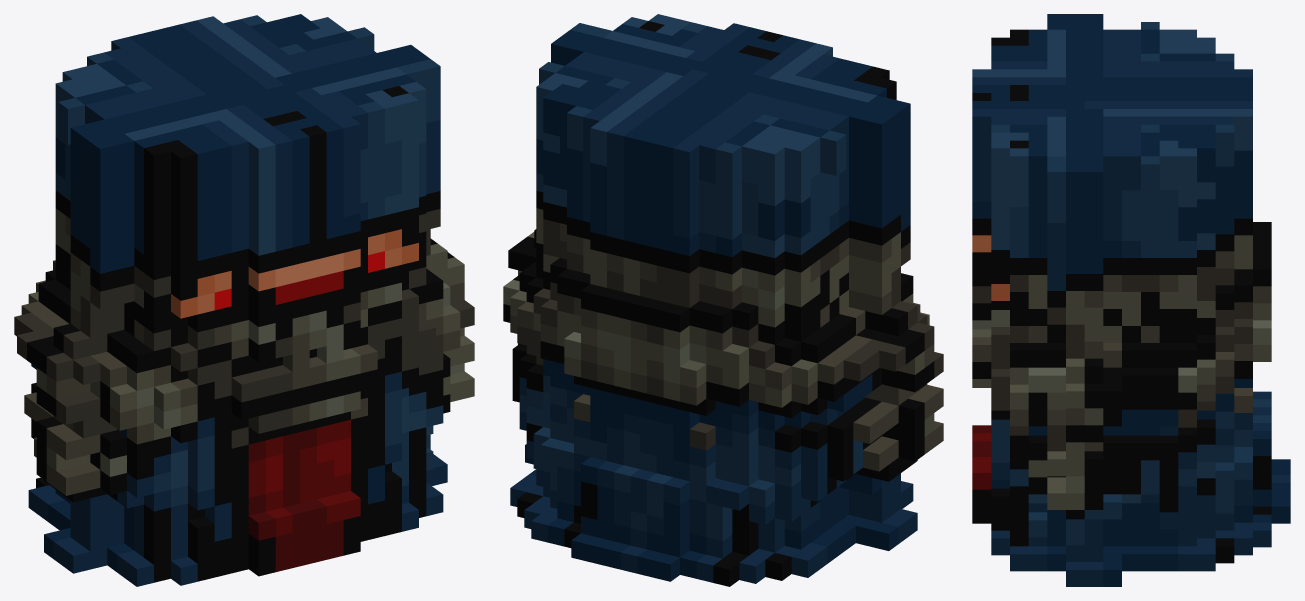
The model's file is Icon_715_01.obj.
3 views of the same model, side by side, from view 1: azimuth 30°, elevation 25°; view 2: azimuth 150°, elevation 25°; view 3: azimuth 270°, elevation 25° (orthographic). The views are drawn at different scales.
Bounding box in the file's own units: 2.4 × 2.4 × 1.7.
1 material, 1 textured.
